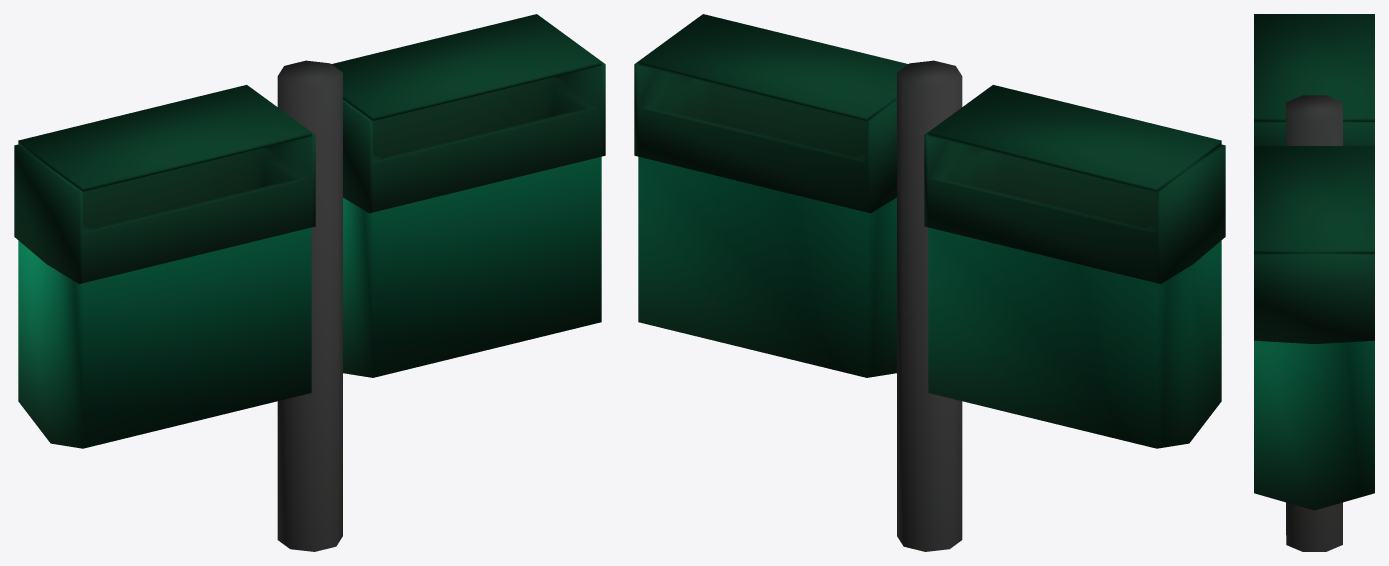
Rendered from DoubleTrash.fbx.
3 renders of one model, left to right at view 1: azimuth 30°, elevation 25°; view 2: azimuth 150°, elevation 25°; view 3: azimuth 270°, elevation 25°, orthographic. The views are drawn at different scales.
Visible parts, largest first — view 1: DoubleTrash; view 2: DoubleTrash; view 3: DoubleTrash.
Boxes of the visible parts, <box> form: DoubleTrash: <box>14,14,605,551</box>; DoubleTrash: <box>634,14,1225,551</box>; DoubleTrash: <box>1254,14,1374,551</box>.
Size of the model in its own units: 85.58 by 72.01 by 18.24.
Materials: 1 (1 with a texture image).
